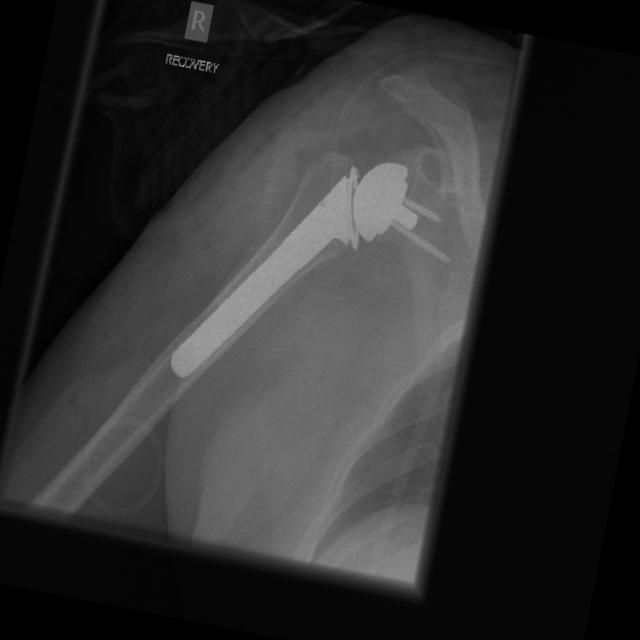shoulder fracture: (333, 116, 413, 260)
